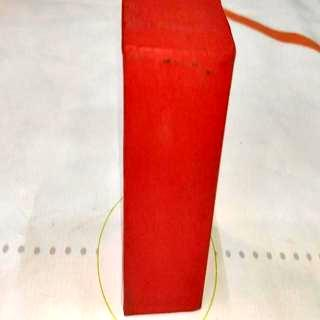redbox: (120, 0, 238, 317)
